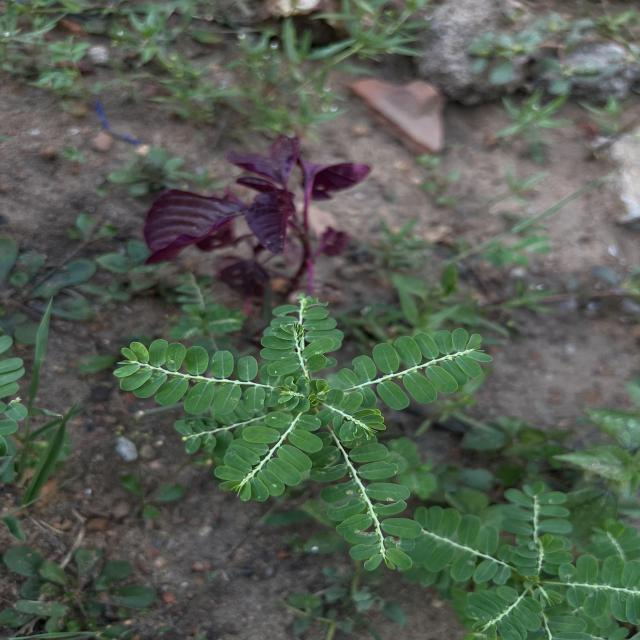Phyllanthus niruri: (312, 424, 422, 572), (336, 326, 497, 411), (110, 337, 276, 416), (211, 410, 323, 503), (256, 292, 344, 384)
